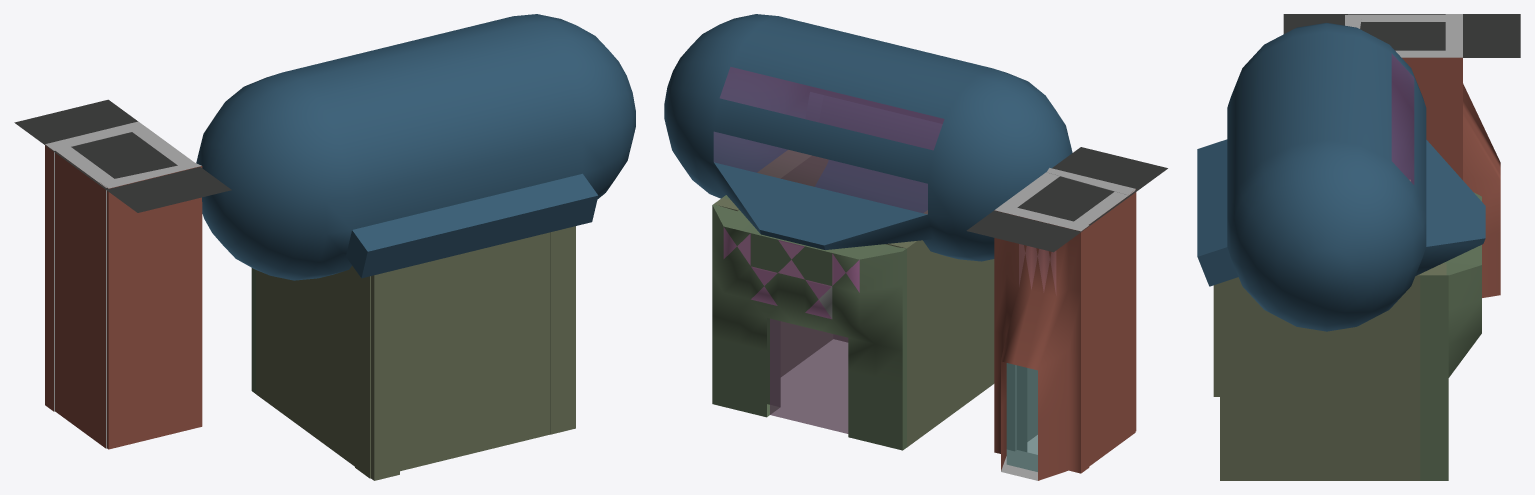
Rendered from gedung ini aja ya.fbx.
3 views of the same model, side by side, from view 1: azimuth 30°, elevation 25°; view 2: azimuth 150°, elevation 25°; view 3: azimuth 270°, elevation 25° (orthographic). The views are drawn at different scales.
Parts seen in each view (by area): view 1: pCylinder1, pCube8, pCube4, pCube9, pCube3, pPlane1, pCube10, polySurface1, pCube2; view 2: pCylinder1, polySurface7, polySurface1, pCube9, pCube3, polySurface8, pPlane1, pCube10, polySurface2, pCube2, pCube4; view 3: pCylinder1, pCube10, polySurface7, polySurface1, pPlane1, pCube2, pCube9, pCube3.
Part boxes in pixels (left/top/right/bottom): pCylinder1: left=196, top=14, right=635, bottom=280; pCube8: left=355, top=232, right=549, bottom=478; pCube4: left=100, top=162, right=202, bottom=449; pCube9: left=256, top=265, right=399, bottom=480; pCube3: left=52, top=144, right=114, bottom=448; pPlane1: left=14, top=99, right=231, bottom=212; pCube10: left=550, top=226, right=575, bottom=434; polySurface1: left=45, top=121, right=145, bottom=411; pCube2: left=132, top=126, right=194, bottom=165; pCylinder1: left=664, top=14, right=1072, bottom=261; polySurface7: left=712, top=195, right=906, bottom=450; polySurface1: left=994, top=205, right=1089, bottom=480; pCube9: left=885, top=210, right=994, bottom=447; pCube3: left=1072, top=190, right=1135, bottom=466; polySurface8: left=770, top=318, right=848, bottom=433; pPlane1: left=966, top=147, right=1167, bottom=252; pCube10: left=714, top=150, right=832, bottom=376; polySurface2: left=1006, top=363, right=1037, bottom=471; pCube2: left=1001, top=172, right=1059, bottom=450; pCube4: left=1046, top=168, right=1136, bottom=430; pCylinder1: left=1197, top=23, right=1485, bottom=331; pCube10: left=1220, top=263, right=1446, bottom=480; polySurface7: left=1420, top=192, right=1481, bottom=480; polySurface1: left=1445, top=14, right=1500, bottom=297; pPlane1: left=1283, top=14, right=1520, bottom=57; pCube2: left=1395, top=50, right=1449, bottom=165; pCube9: left=1213, top=179, right=1410, bottom=396; pCube3: left=1348, top=14, right=1451, bottom=21.
Size of the model in its own units: 19.78 by 13.48 by 11.4.
